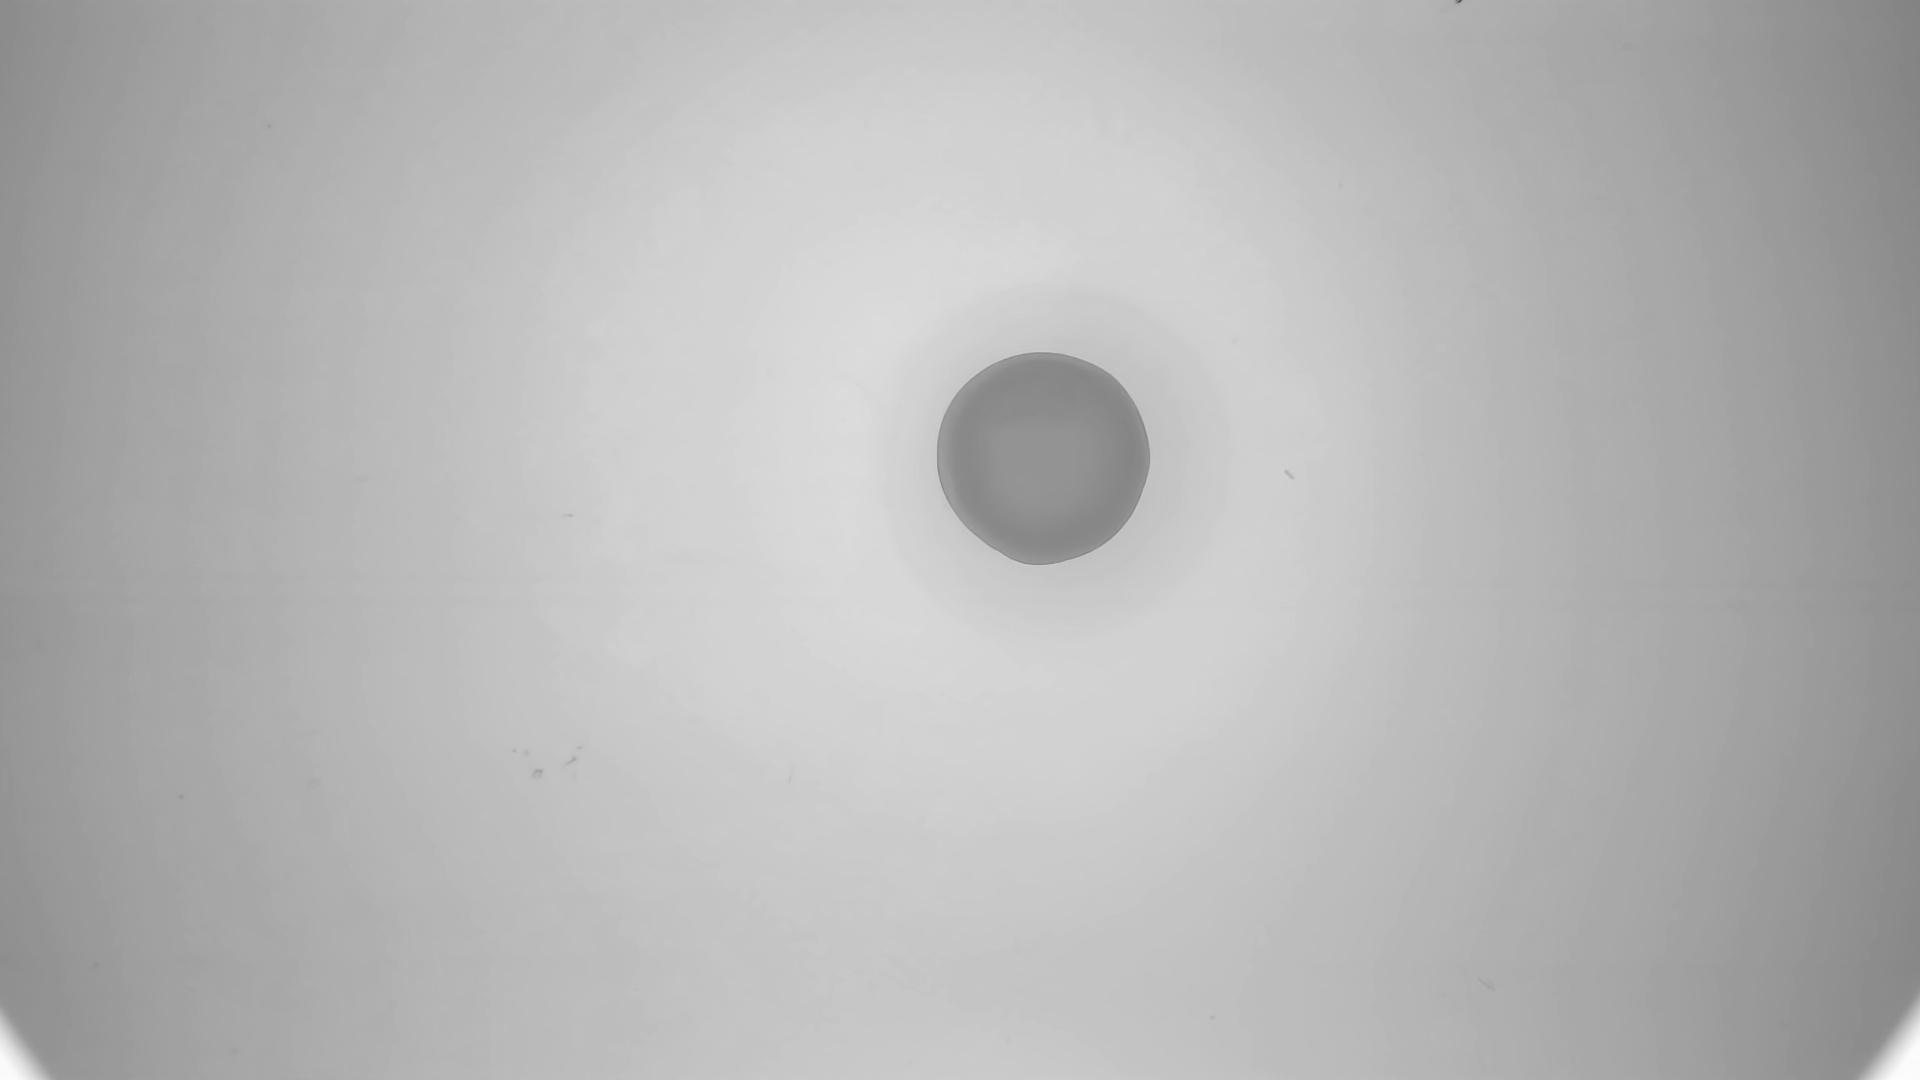normal: (935, 349, 1154, 568)
